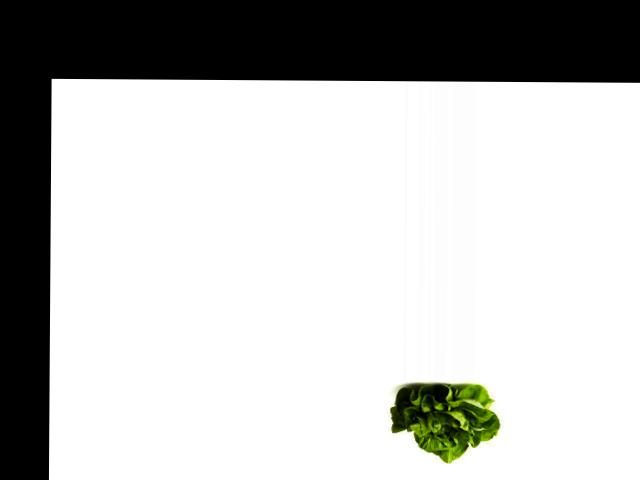lettuce: (388, 382, 503, 462)
